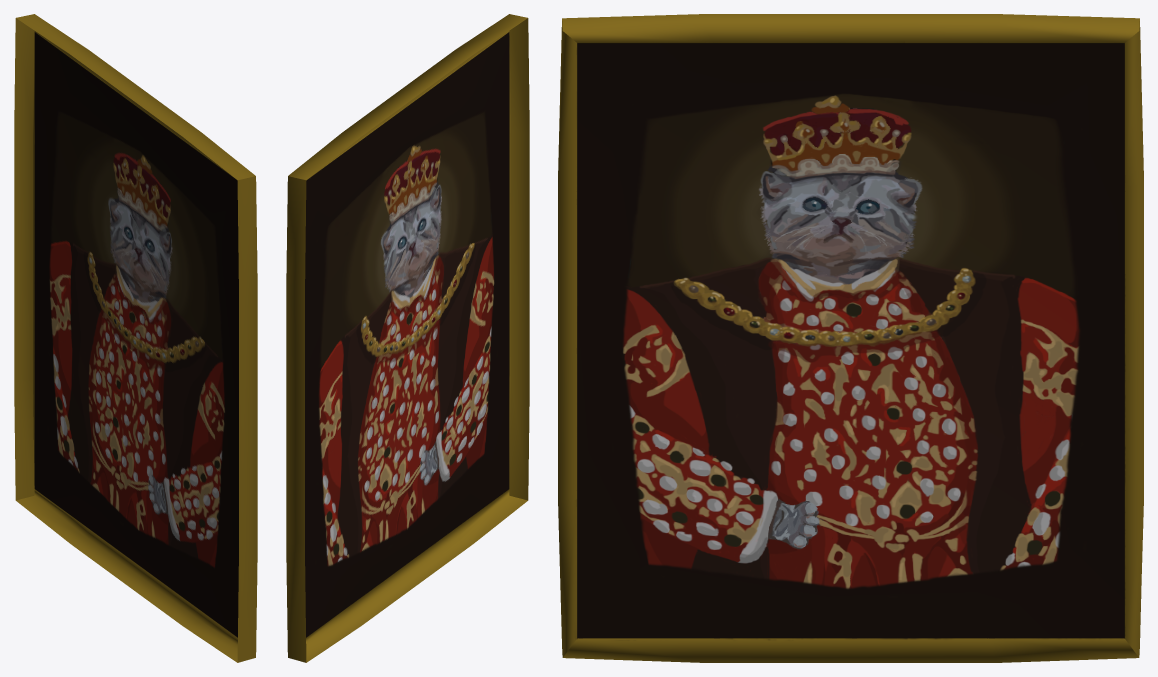
Rendered from mod_prop_painting_catking.fbx.
The picture shows the model from 3 angles, left to right: view 1: azimuth 30°, elevation 25°; view 2: azimuth 150°, elevation 25°; view 3: azimuth 270°, elevation 25°; orthographic projection. The views are drawn at different scales.
Visible parts, largest first — view 1: mod_prop_painting_catking; view 2: mod_prop_painting_catking; view 3: mod_prop_painting_catking.
Part boxes in pixels (x1,y1,x2,y2): mod_prop_painting_catking: (14,14,257,662); mod_prop_painting_catking: (286,14,529,662); mod_prop_painting_catking: (558,14,1143,662).
Size of the model in its own units: 4.81 by 120 by 100.
